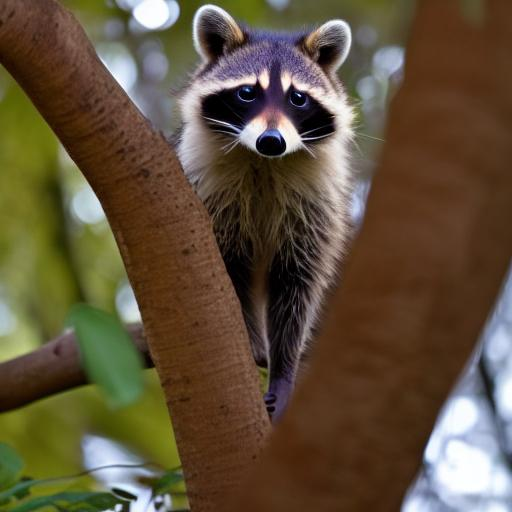raccoon: (168, 0, 365, 362)
